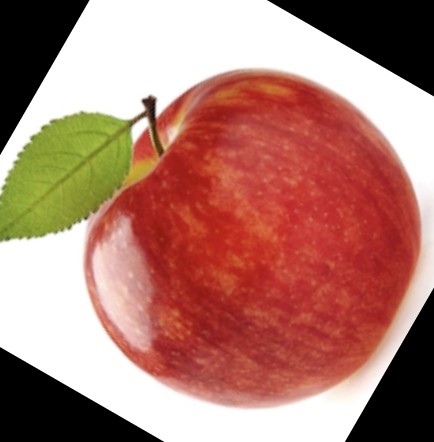fresh_apple: (85, 70, 421, 409)
